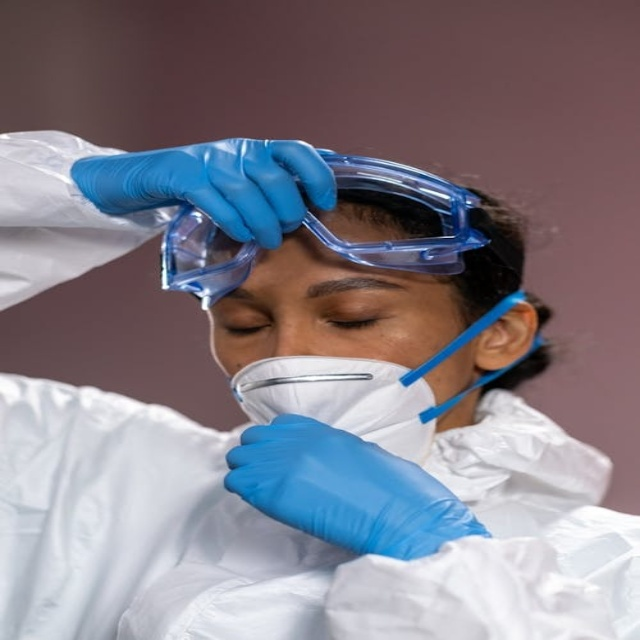Guantes: (225, 415, 491, 562), (73, 137, 342, 250)
Mascara: (227, 352, 444, 462)
Sin_gafas: (196, 271, 442, 349)
